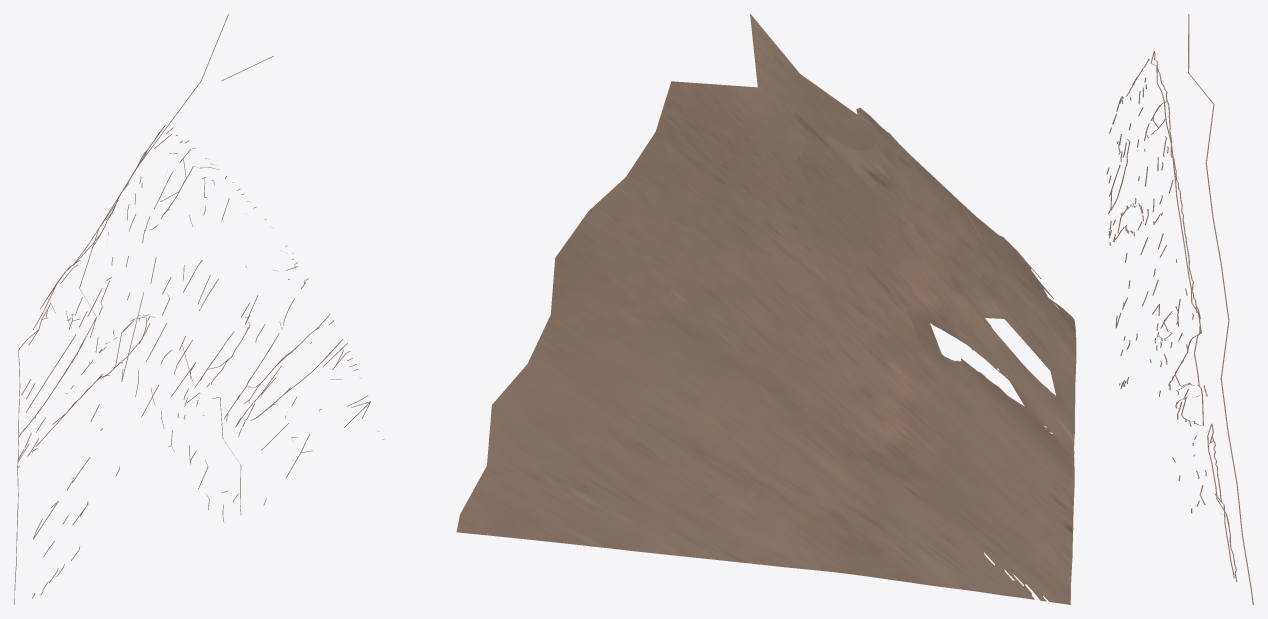
3 views of the same model, side by side, from view 1: azimuth 30°, elevation 25°; view 2: azimuth 150°, elevation 25°; view 3: azimuth 270°, elevation 25° (orthographic). The views are drawn at different scales.
Bounding box in the file's own units: 48.53 × 48 × 13.43.
Materials: 1 (1 with a texture image).
